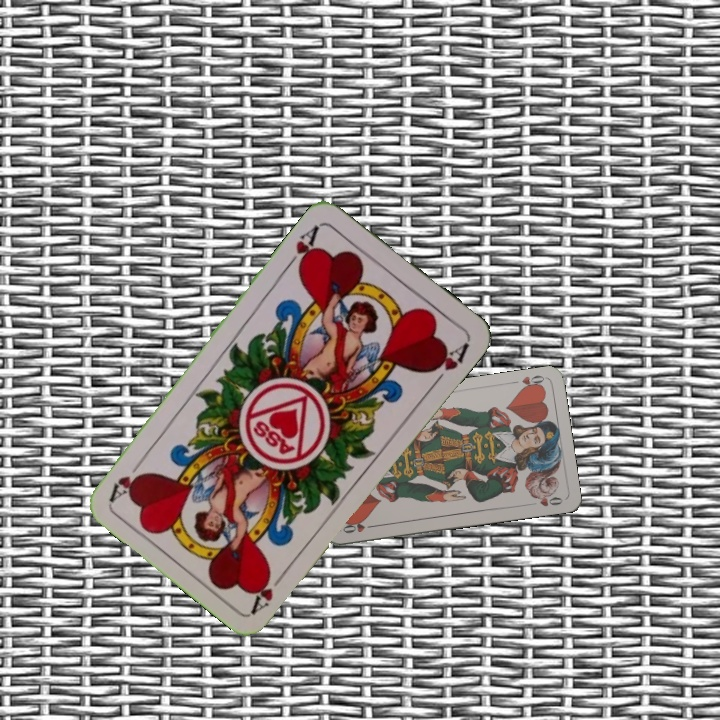HA: (283, 220, 324, 275), (247, 564, 290, 615)
HO: (507, 371, 547, 393), (339, 518, 379, 536)
